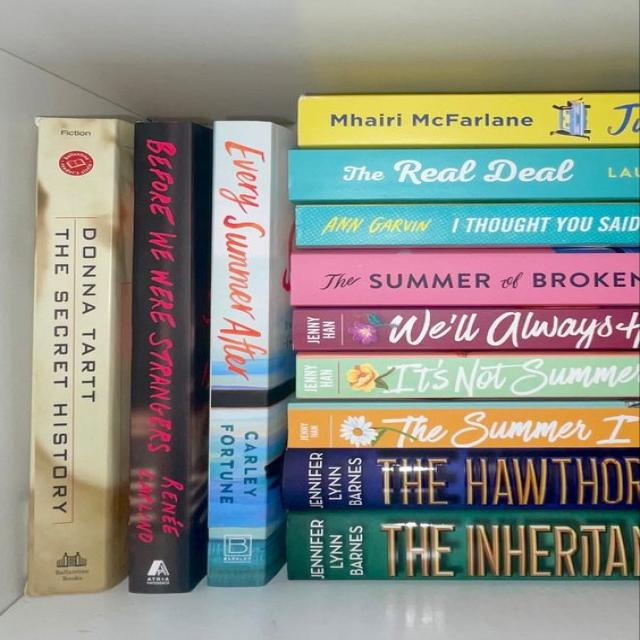book: (25, 118, 133, 596), (207, 120, 293, 586), (129, 122, 210, 593), (287, 511, 639, 578), (284, 449, 639, 510), (290, 249, 639, 307), (289, 148, 639, 203), (297, 92, 639, 148), (288, 402, 639, 449), (296, 354, 639, 399), (293, 308, 639, 352), (295, 203, 639, 247)
